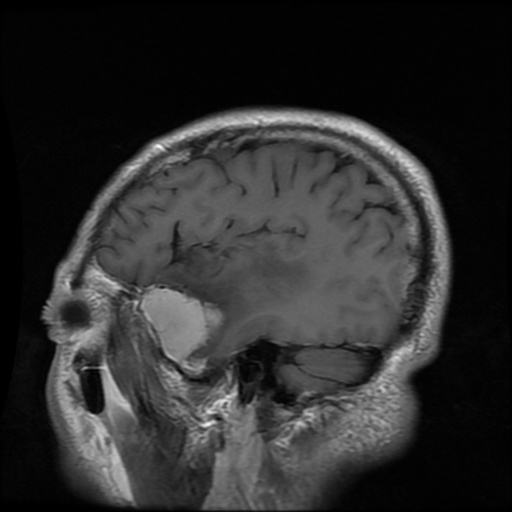meningioma: (144, 286, 222, 360)
